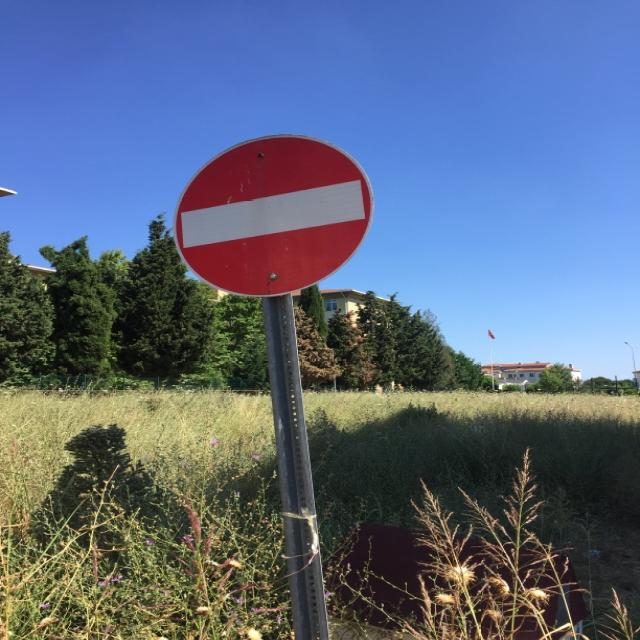girisyok: (173, 134, 372, 297)
